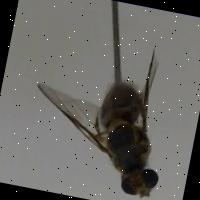Oriental-fruit-fly: (15, 24, 192, 200)
